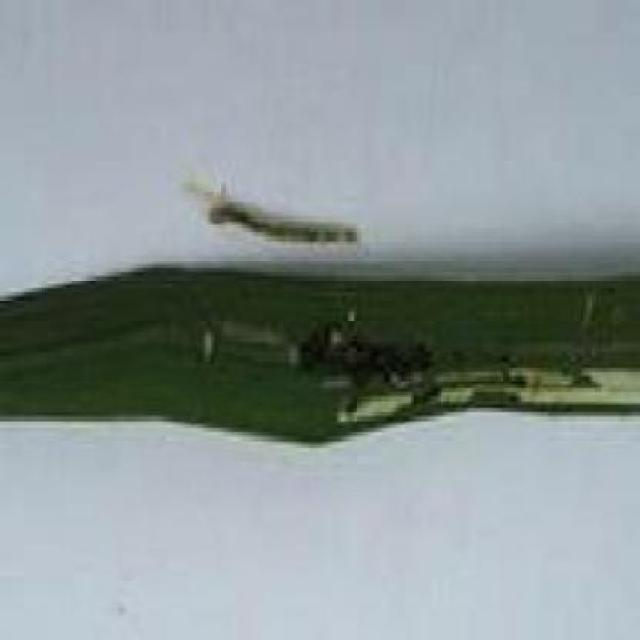leaf-folder: (175, 164, 374, 264)
